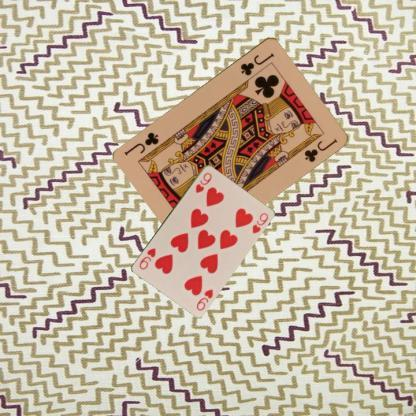9h: (192, 170, 214, 194), (193, 286, 214, 311)
Jc: (238, 50, 275, 77)
